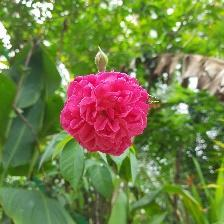rose: (59, 71, 152, 158)
